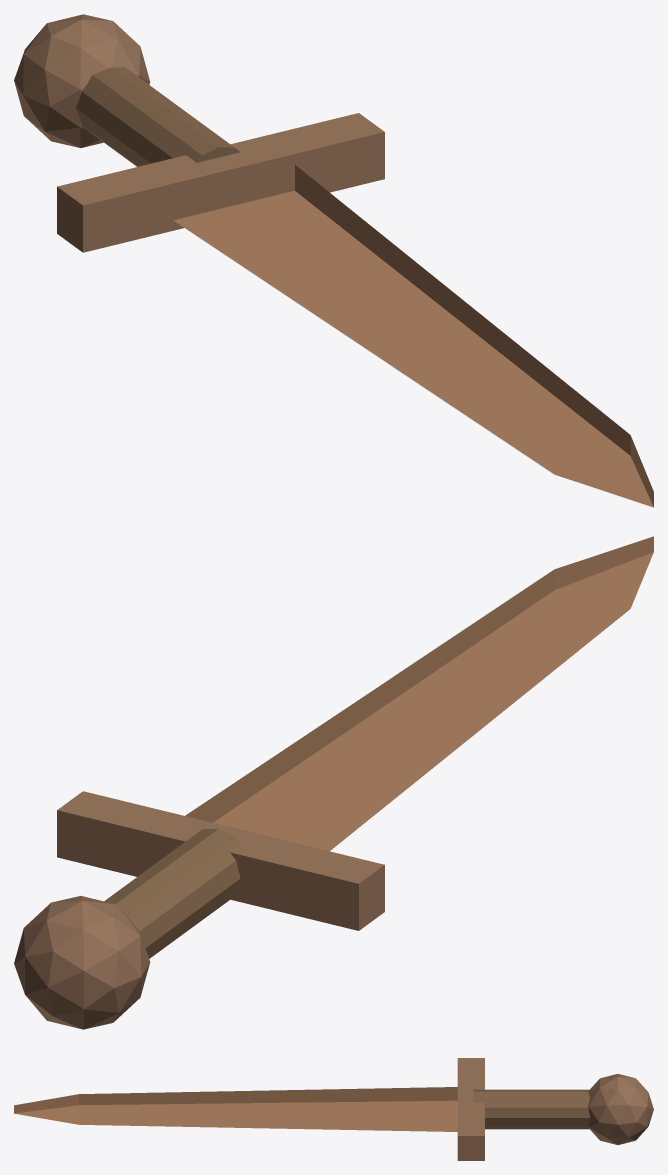
The model's file is rusty_iron_broadsword.glb.
3 renders of one model, top to bottom at view 1: azimuth 30°, elevation 25°; view 2: azimuth 150°, elevation 25°; view 3: azimuth 270°, elevation 25°, orthographic. The views are drawn at different scales.
Parts seen in each view (by area): view 1: sword_0_0, sword_0_1, sword_0_3, sword_0_2; view 2: sword_0_0, sword_0_1, sword_0_3, sword_0_2; view 3: sword_0_0, sword_0_2, sword_0_3, sword_0_1.
Boxes of the visible parts, bbox=[...] form: sword_0_0: bbox=[173, 165, 653, 507]; sword_0_1: bbox=[57, 113, 384, 252]; sword_0_3: bbox=[14, 14, 150, 147]; sword_0_2: bbox=[76, 67, 240, 166]; sword_0_0: bbox=[185, 536, 653, 851]; sword_0_1: bbox=[57, 791, 384, 930]; sword_0_3: bbox=[14, 896, 150, 1029]; sword_0_2: bbox=[104, 828, 240, 958]; sword_0_0: bbox=[14, 1087, 457, 1131]; sword_0_2: bbox=[473, 1089, 590, 1129]; sword_0_3: bbox=[588, 1074, 653, 1144]; sword_0_1: bbox=[457, 1058, 484, 1160].
Bounding box in the file's own units: 1.21 × 0.4717 × 4.19.
